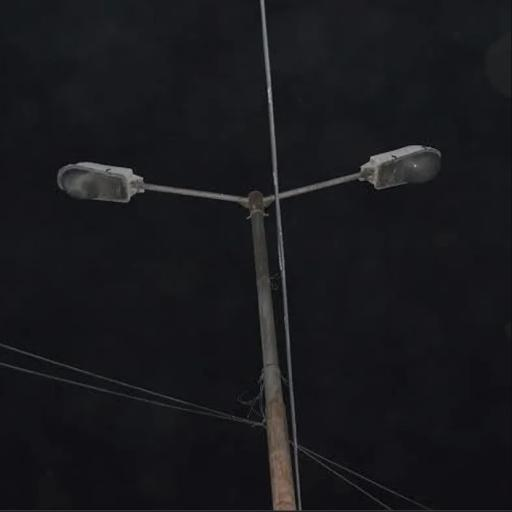off street light: (62, 135, 481, 512)
